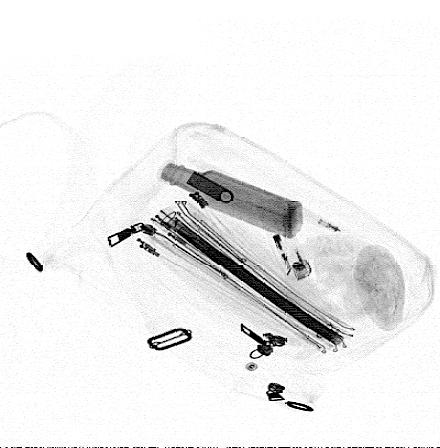Lighter: (257, 206, 313, 281)
